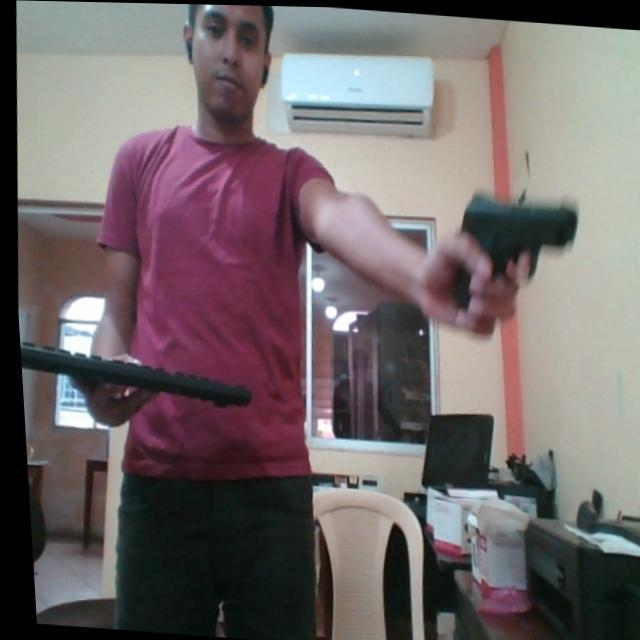weapon: (436, 185, 584, 324)
